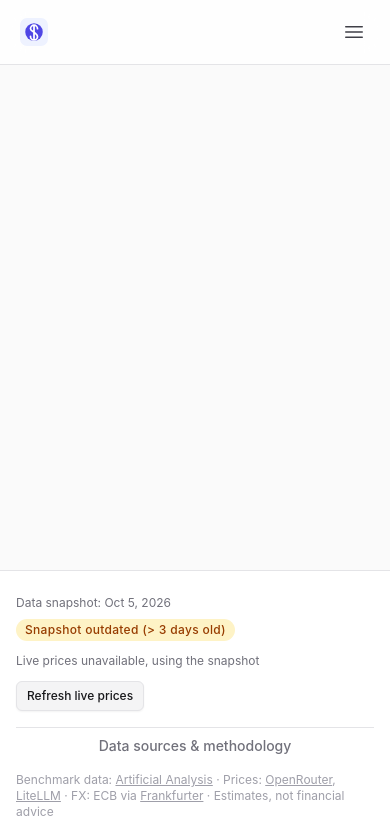
App Shell › switches language to PL and updates navigation labels
Click the button named "Open main menu": (354, 32) [334, 12, 374, 52]
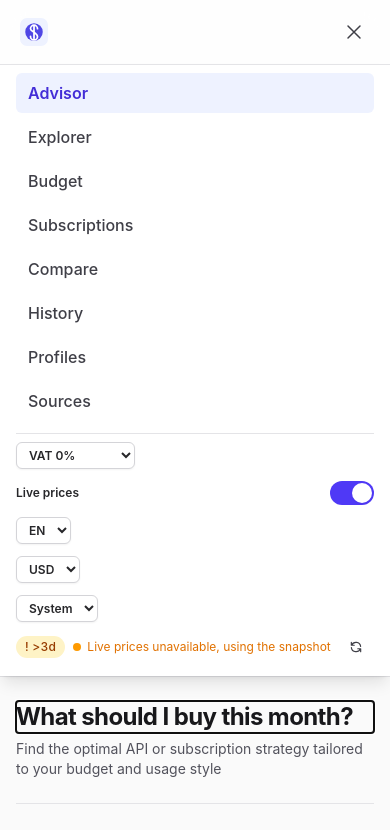
Select "PL" in the dropdown named "Language": (44, 530) [16, 517, 71, 544]
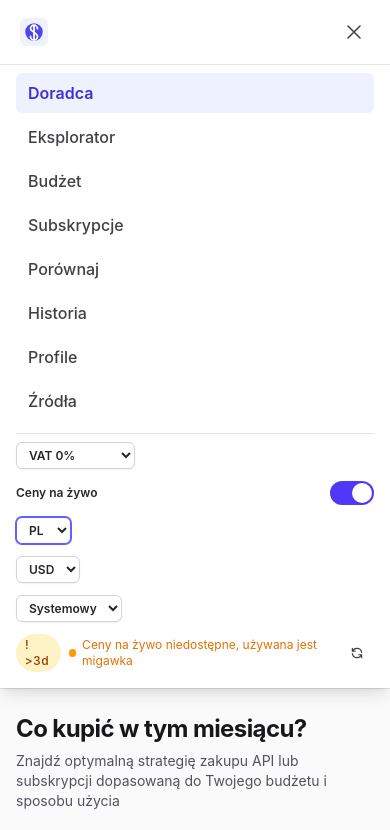
Check: the link "Doradca" is shown, box [16, 73, 374, 113]
Check: the link "Eksplorator" is shown, box [28, 127, 115, 147]
Check: the link "Budżet" is shown, box [28, 171, 82, 191]
